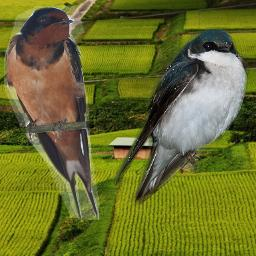Swallow: (114, 23, 252, 205), (4, 6, 99, 220)
